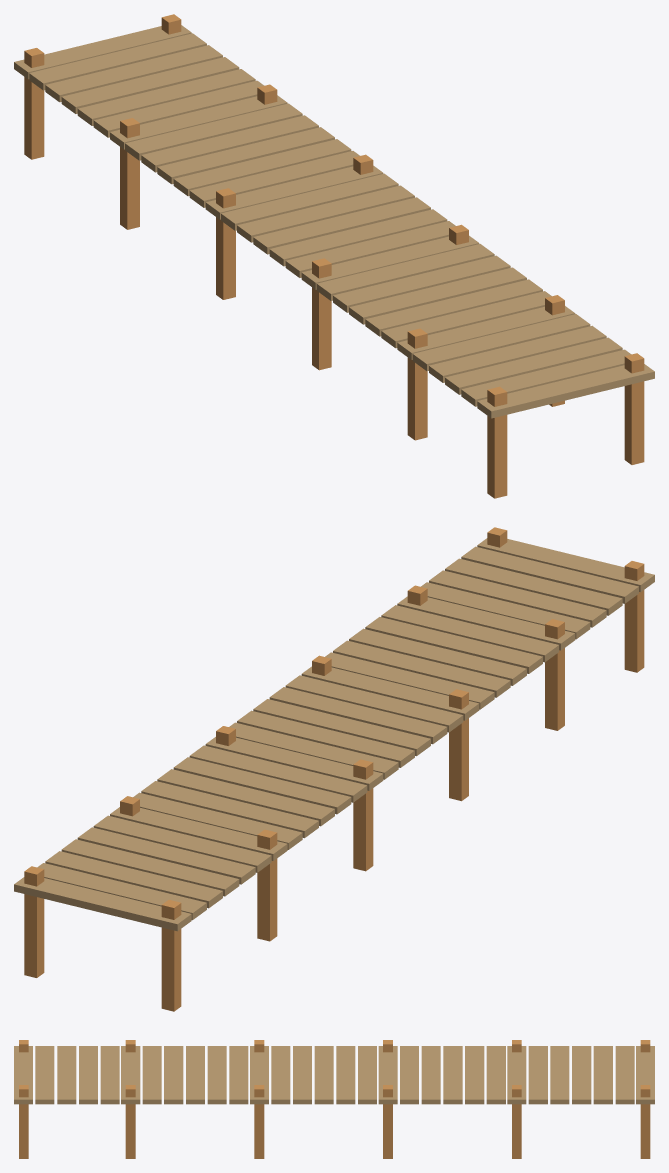
The picture shows the model from 3 angles, top to bottom: view 1: azimuth 30°, elevation 25°; view 2: azimuth 150°, elevation 25°; view 3: azimuth 270°, elevation 25°; orthographic projection. The views are drawn at different scales.
Parts seen in each view (by area): view 1: Cube, Cube.001; view 2: Cube, Cube.001; view 3: Cube, Cube.001.
Boxes of the visible parts, box(x1,y1,x2,y2) form: Cube: box(14, 14, 654, 440); Cube.001: box(487, 353, 644, 498); Cube: box(14, 538, 654, 1011); Cube.001: box(487, 527, 644, 672); Cube: box(14, 1040, 654, 1158); Cube.001: box(19, 1040, 28, 1158).
Bounding box in the file's own units: 1078 × 653 × 5449.
